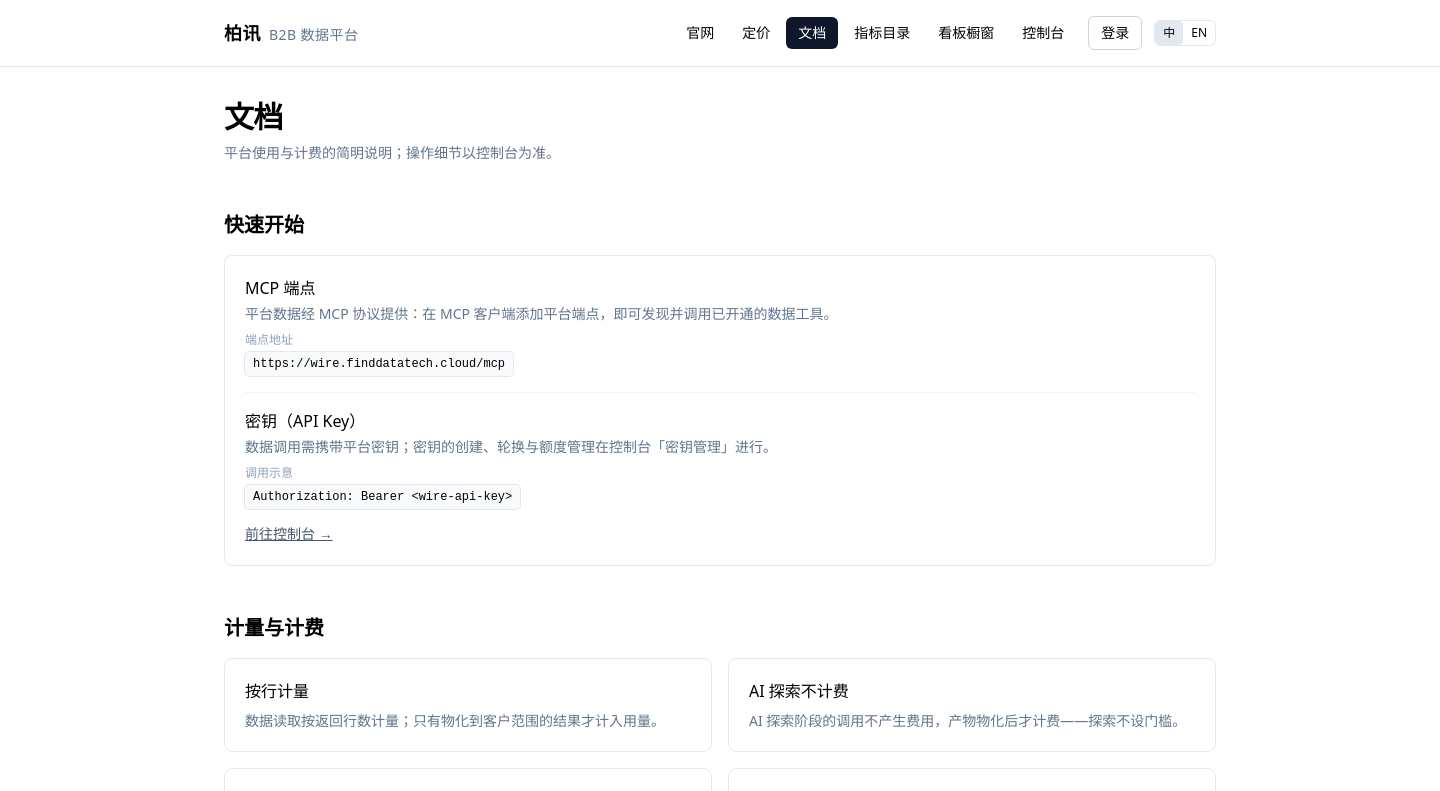
ConsoleView（管理员控制台可达性） › 管理员经文档页「前往控制台」入口直达控制台：不被改跳后台，门户导航在场
Check: the text "https://wire.finddatatech.cloud/mcp" is shown, box left=245, top=352, right=513, bottom=376
What coordinates should you click on to do the following:
click the link with test id "docs-quick-start-console-link"
I would click on:
 (289, 534)
Its box is left=245, top=524, right=333, bottom=543.
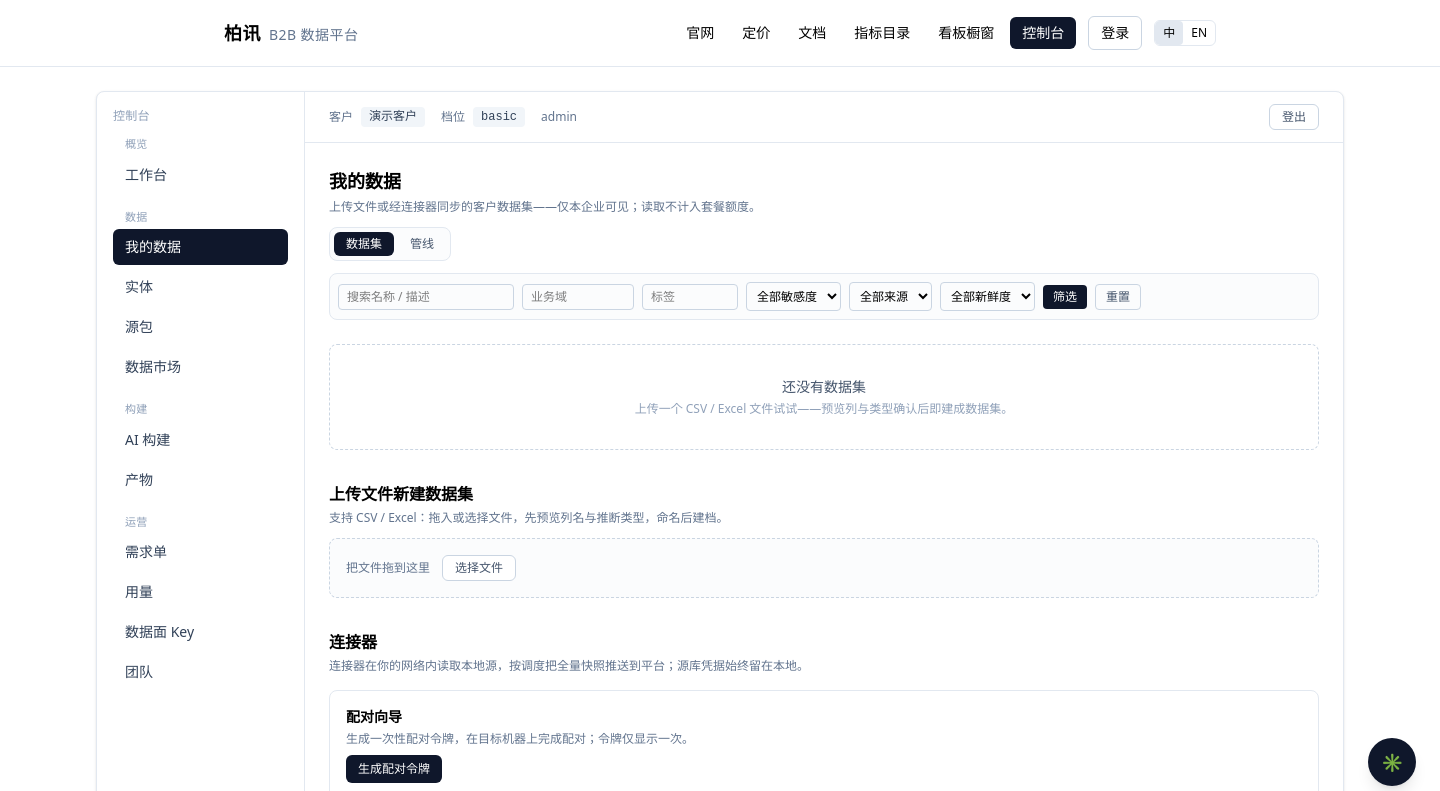
Check: the link to "#/console" is shown, box left=1010, top=17, right=1076, bottom=49
Check: the element with test id "console-topbar" is shown, box left=305, top=92, right=1343, bottom=143
